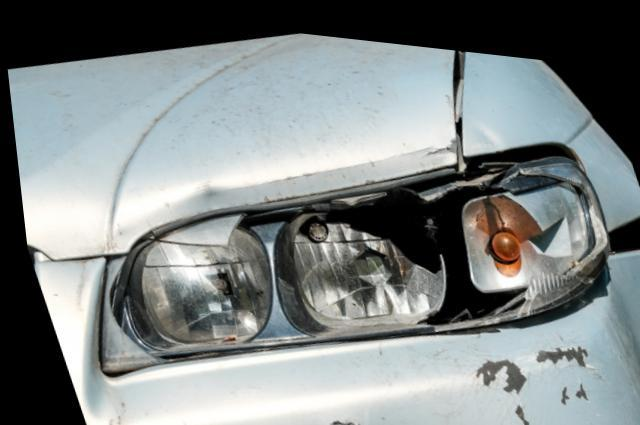dent: (317, 409, 376, 425)
dislocated part: (415, 201, 640, 425)
lamp broken: (117, 136, 603, 349)
scratch: (439, 325, 626, 425)
